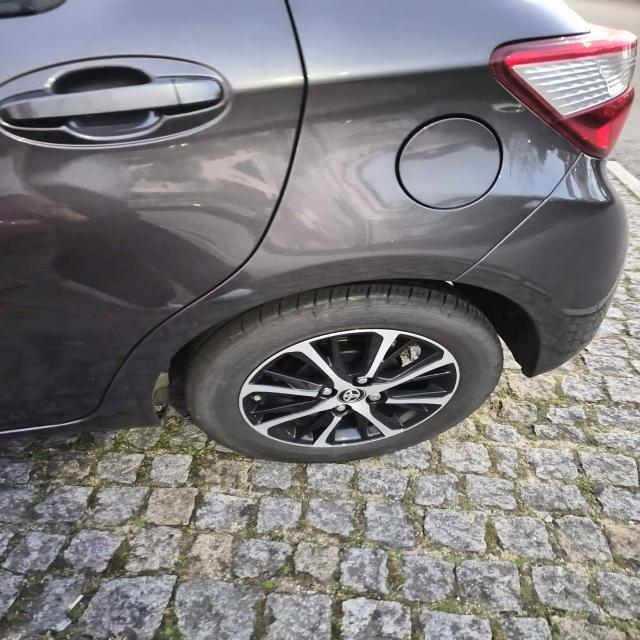jante: (238, 328, 462, 446)
parafuso: (317, 386, 334, 400), (365, 392, 384, 404), (352, 377, 371, 387), (334, 404, 348, 416)
roda: (182, 281, 504, 464)
